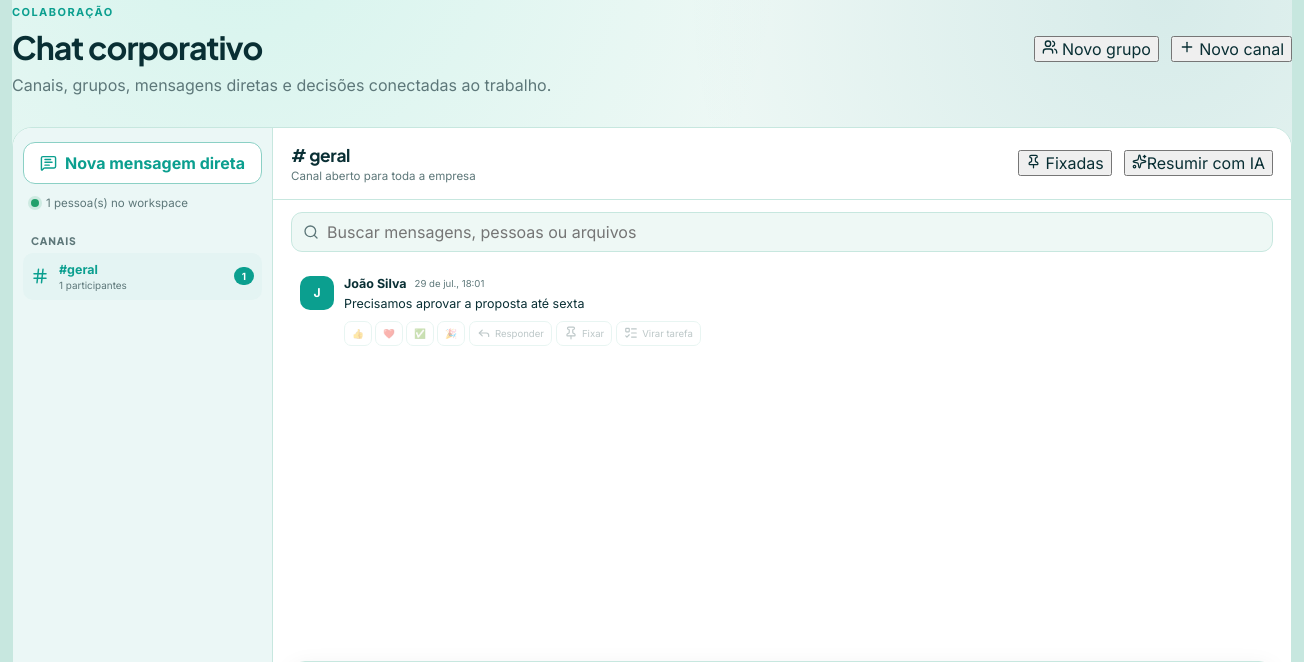
Test: interface do chat corporativo › gera e preserva o resumo da conversa por IA
The width and height of the screenshot is (1304, 662).
Click the button "Resumir com IA".
click(1198, 163)  # box [1124,150,1273,176]
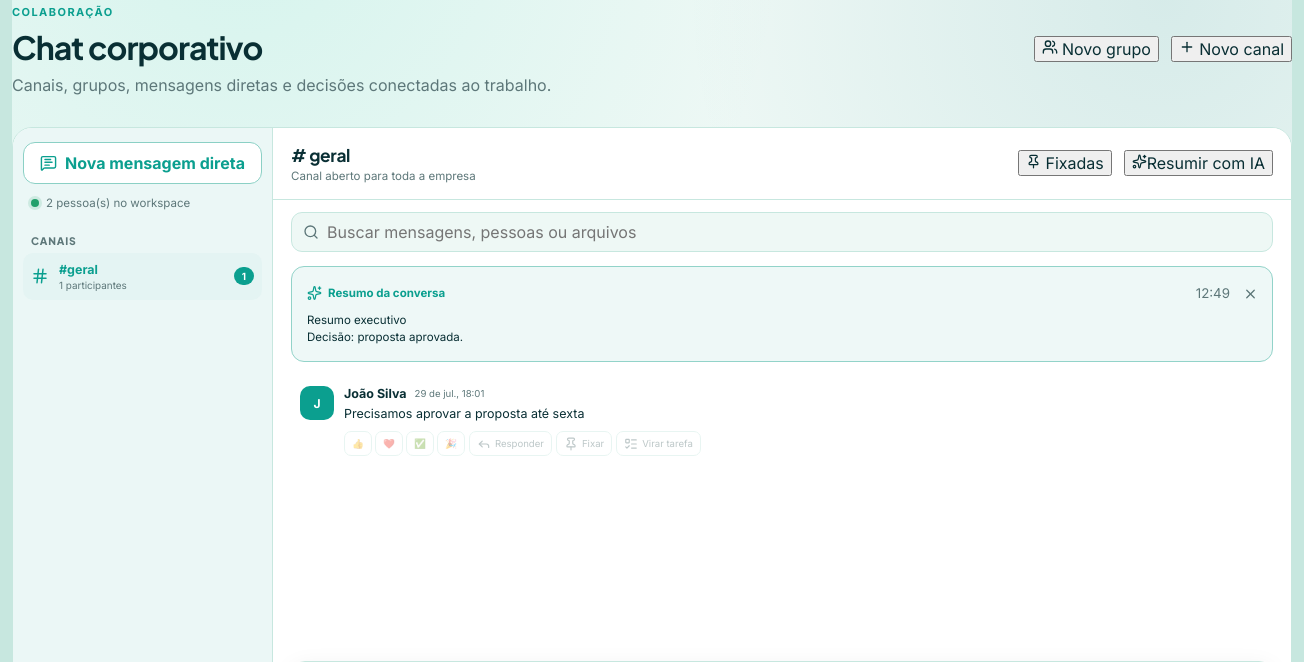
Now the text "Resumo executivo Decisão: proposta aprovada." is shown, box [307,313,463,344]
